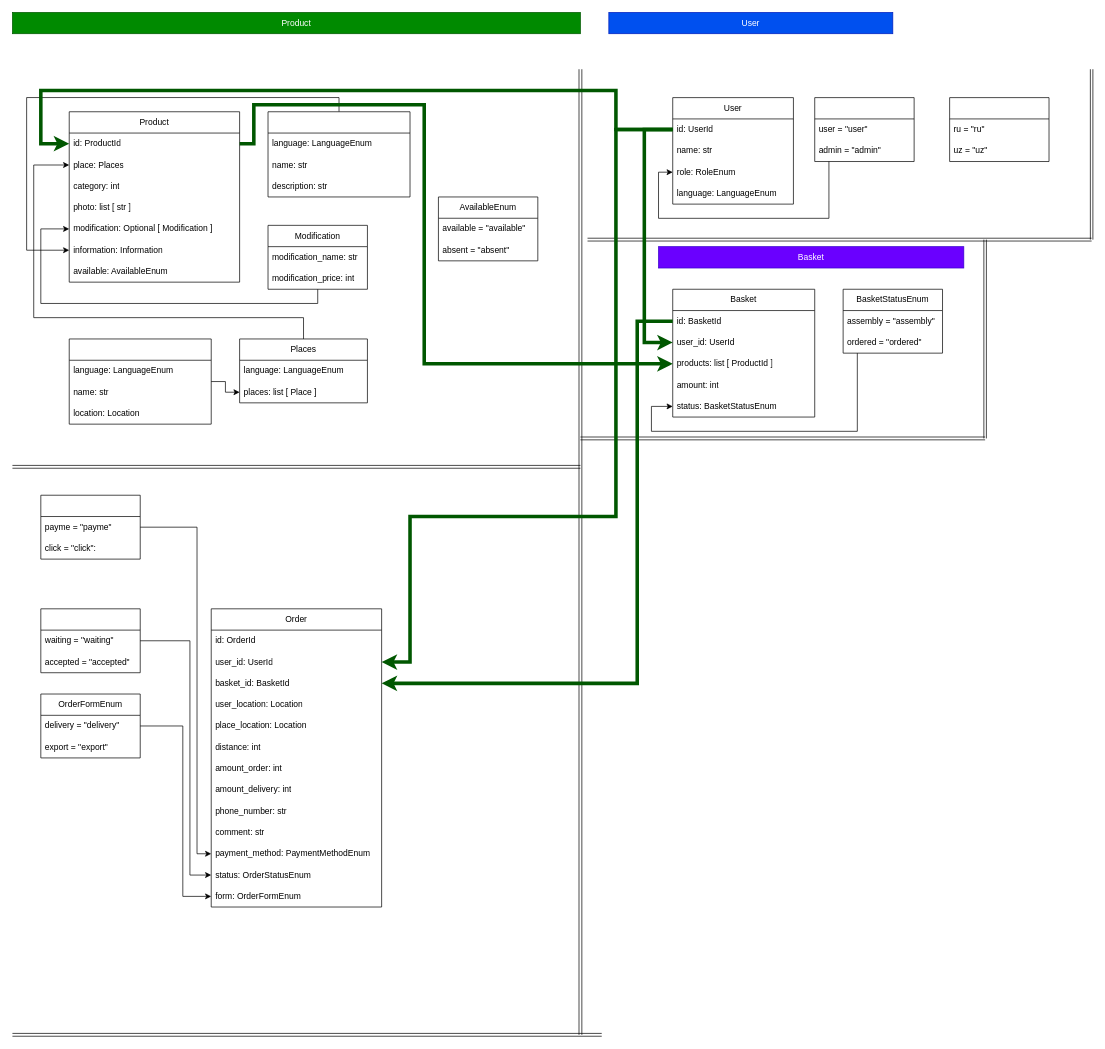
Image size: 1105x1049. Some labels were removed from this diagram. The box of each missing label's shape, as (x1, y1, x2, y2) in pixels:
Information: (267, 111, 410, 197)
LanguageEnum: (949, 97, 1049, 162)
OrderStatusEnum: (40, 608, 140, 673)
PaymentMethodEnum: (40, 495, 140, 559)
Place: (69, 338, 211, 424)
RoleEnum: (814, 97, 914, 162)
